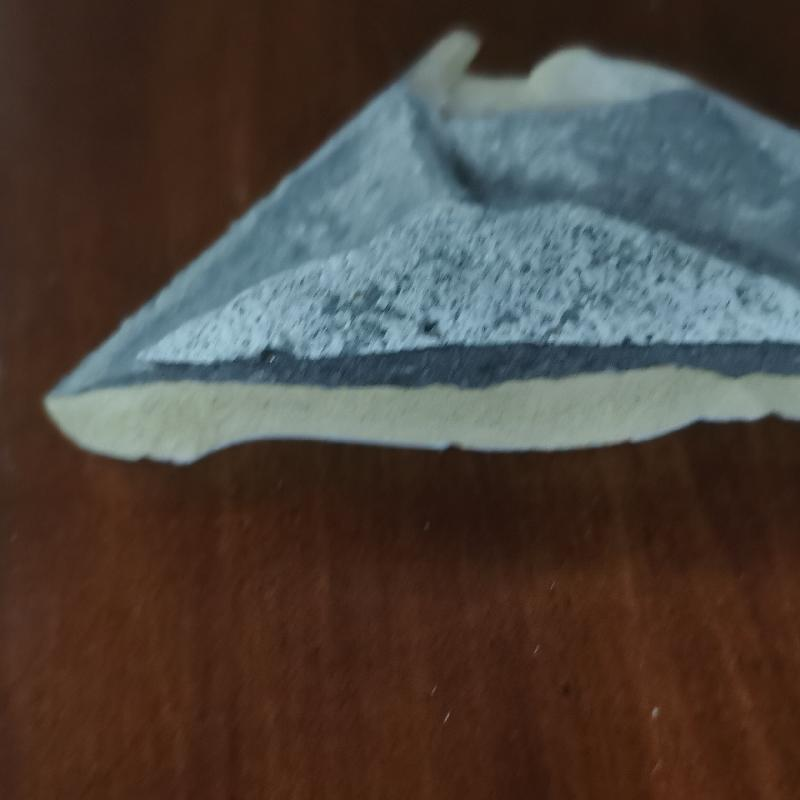tile: (34, 26, 799, 467)
